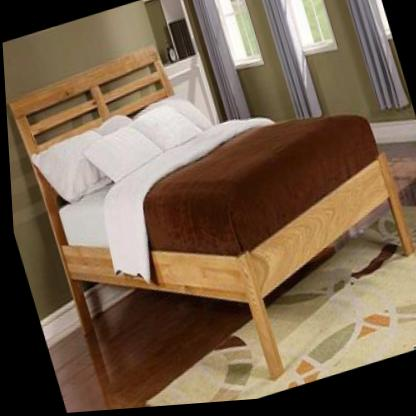Bed: (8, 47, 411, 384)
Carpet: (263, 214, 416, 390)
